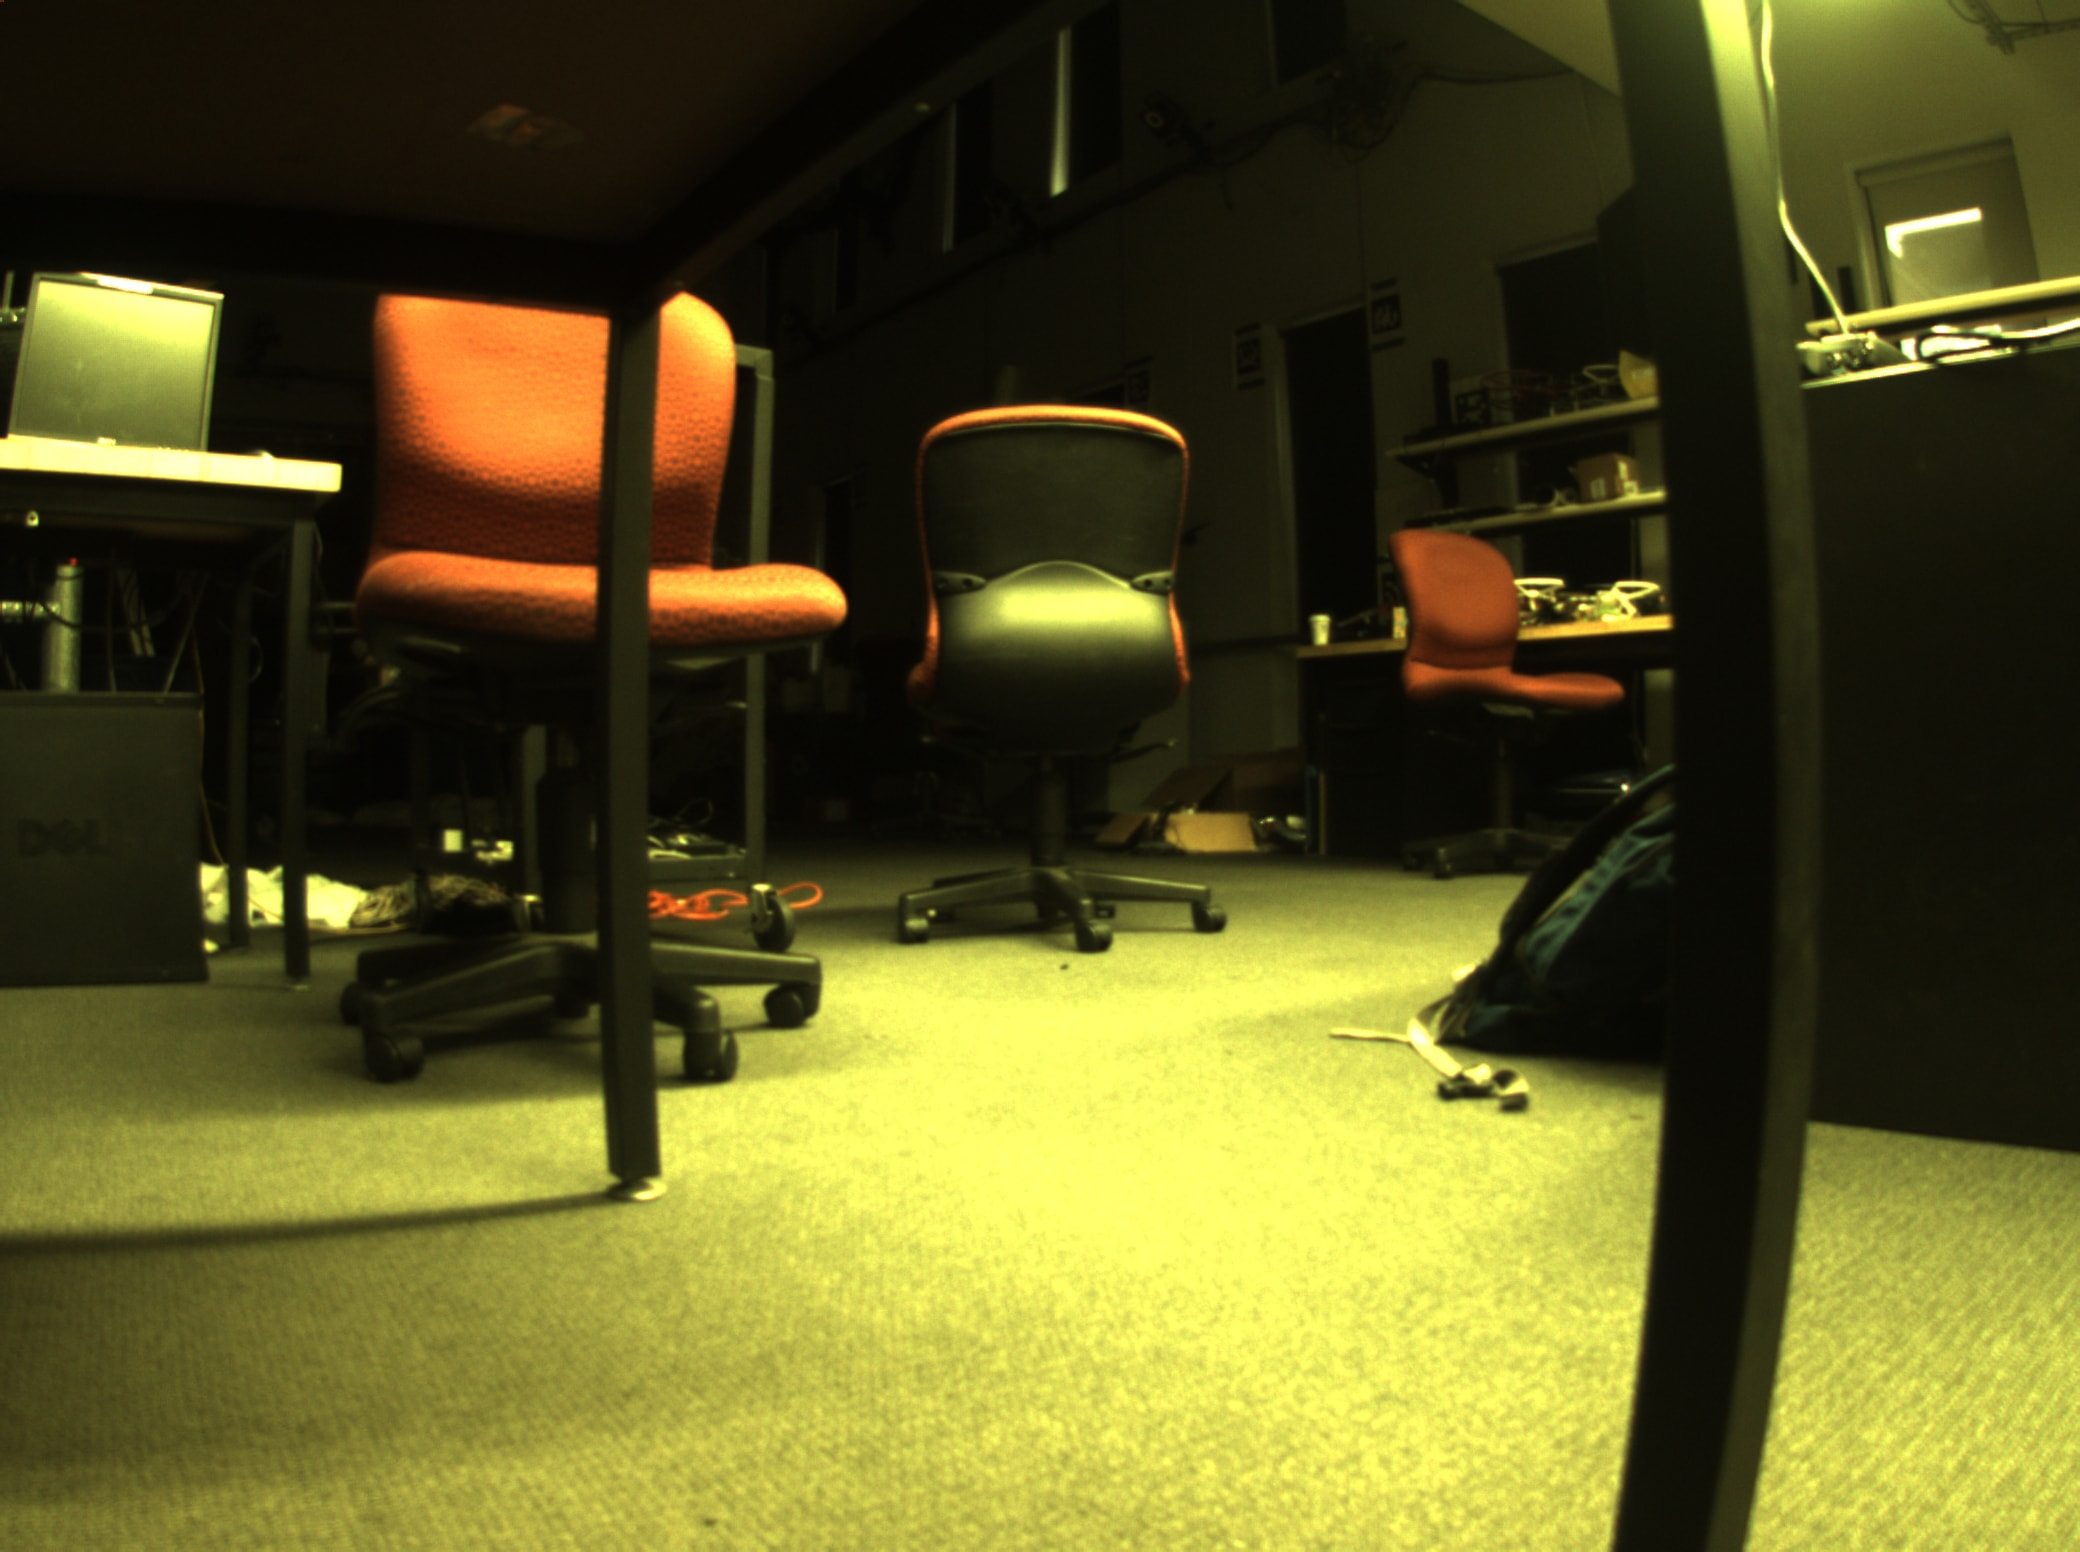chair: (355, 235, 851, 1104), (893, 367, 1241, 970), (1369, 509, 1632, 897)
